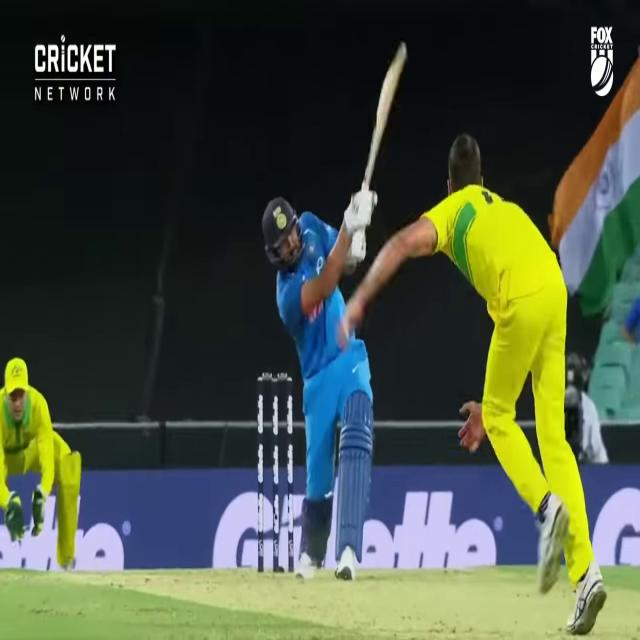stump: (258, 372, 294, 579)
